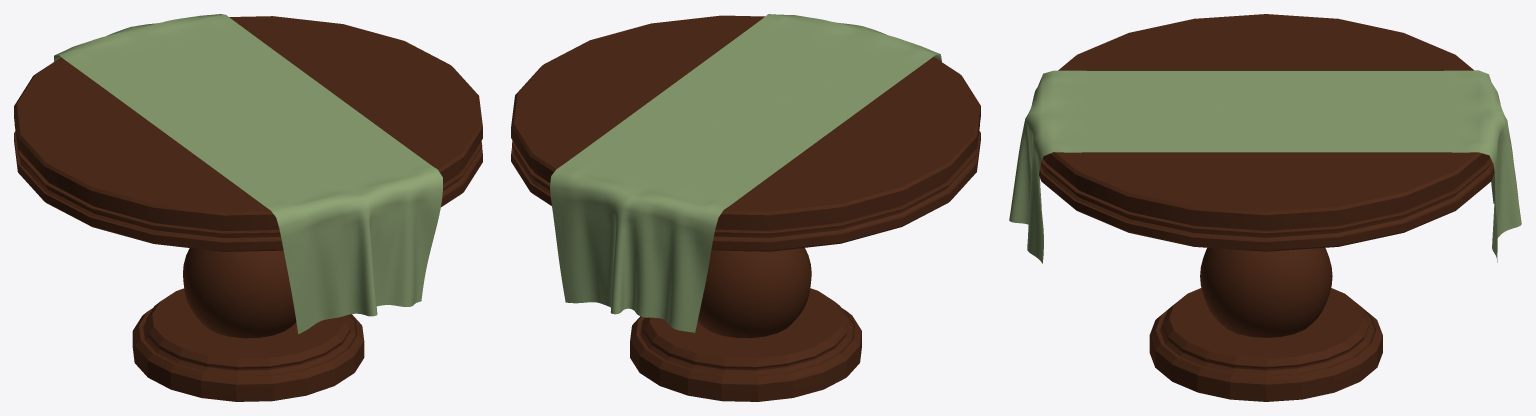
The model's file is Round_Table.fbx.
3 views of the same model, side by side, from view 1: azimuth 30°, elevation 25°; view 2: azimuth 150°, elevation 25°; view 3: azimuth 270°, elevation 25° (orthographic).
Parts seen in each view (by area): view 1: pCylinder1, Plane.011; view 2: pCylinder1, Plane.011; view 3: pCylinder1, Plane.011.
Boxes of the visible parts, x1,y1,x2,y2 form: pCylinder1: (14, 16, 482, 401); Plane.011: (54, 14, 442, 333); pCylinder1: (511, 15, 980, 401); Plane.011: (550, 14, 941, 332); pCylinder1: (1039, 14, 1494, 401); Plane.011: (1009, 70, 1521, 263).
Bounding box in the file's own units: 1152 × 656 × 1248.
